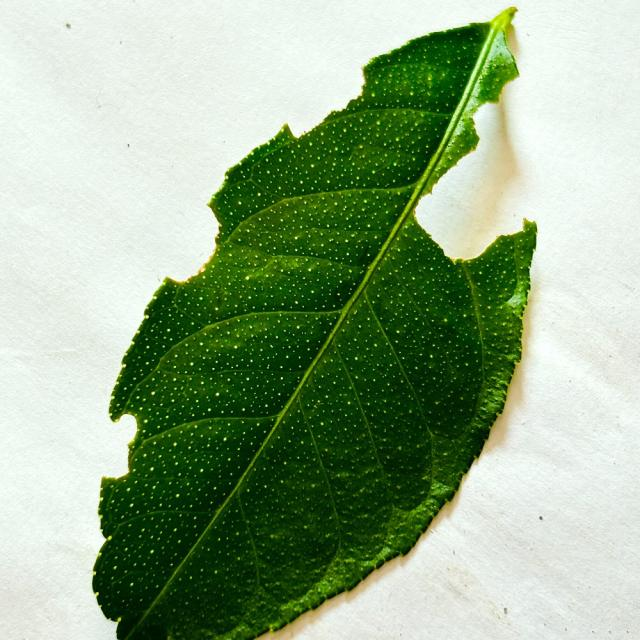Deficiency Leaf: (416, 89, 534, 259), (277, 69, 364, 140), (165, 205, 218, 280), (104, 415, 136, 477)
Lemon: (92, 14, 536, 639)
